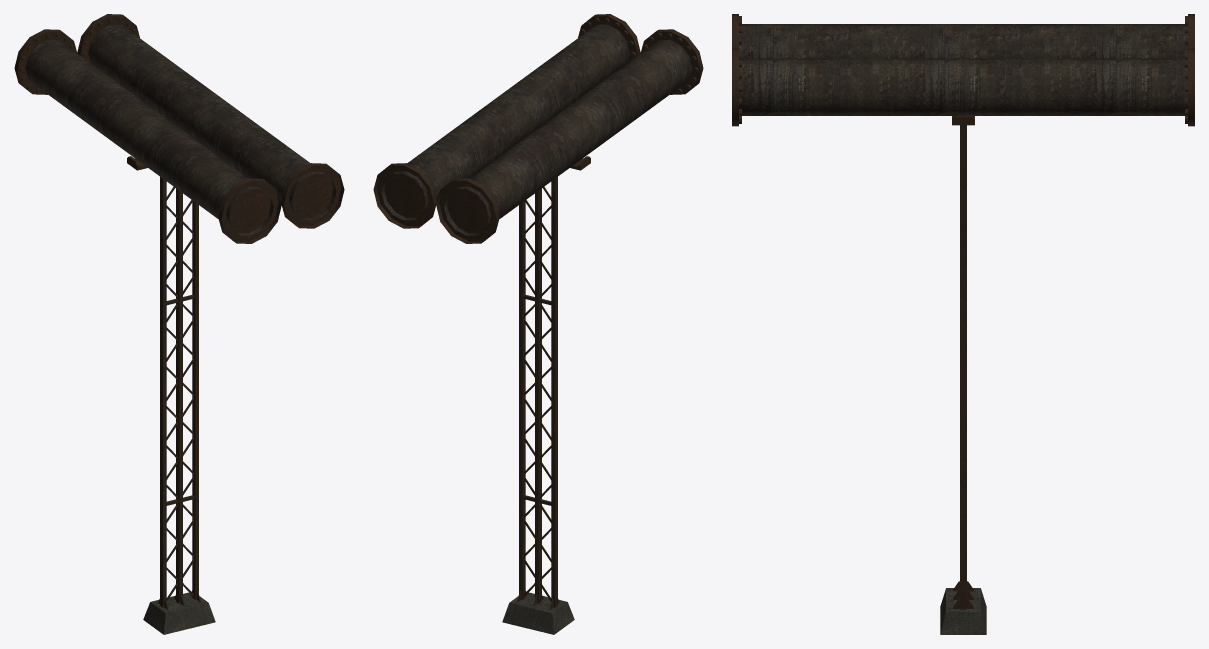
The model's file is pipe_dx_2.obj.
3 views of the same model, side by side, from view 1: azimuth 30°, elevation 25°; view 2: azimuth 150°, elevation 25°; view 3: azimuth 270°, elevation 25° (orthographic). The views are drawn at different scales.
Parts seen in each view (by area): view 1: pipe_dx_2; view 2: pipe_dx_2; view 3: pipe_dx_2.
Boxes of the visible parts, x1=… form: pipe_dx_2: x1=14, y1=14, x2=344, y2=634; pipe_dx_2: x1=373, y1=14, x2=703, y2=634; pipe_dx_2: x1=732, y1=14, x2=1194, y2=634.
Size of the model in its own units: 1.38 by 5.59 by 4.
